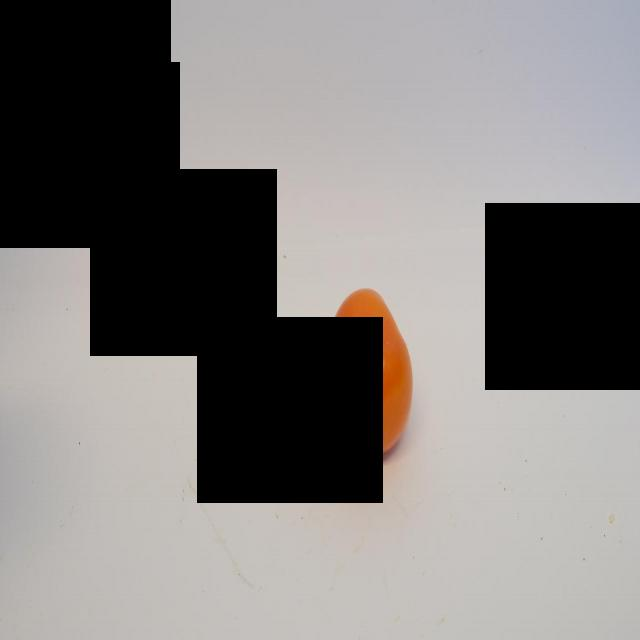tomato: (323, 280, 412, 466)
